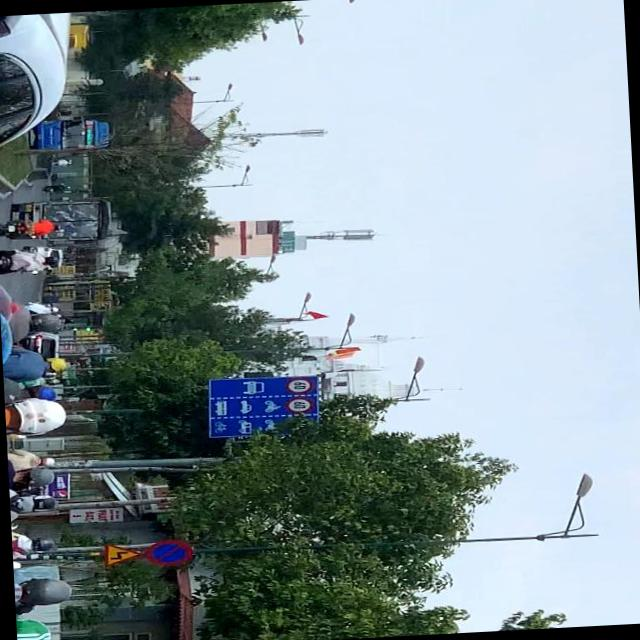P-131a: (146, 537, 196, 569)
W-202a: (102, 540, 144, 565)
